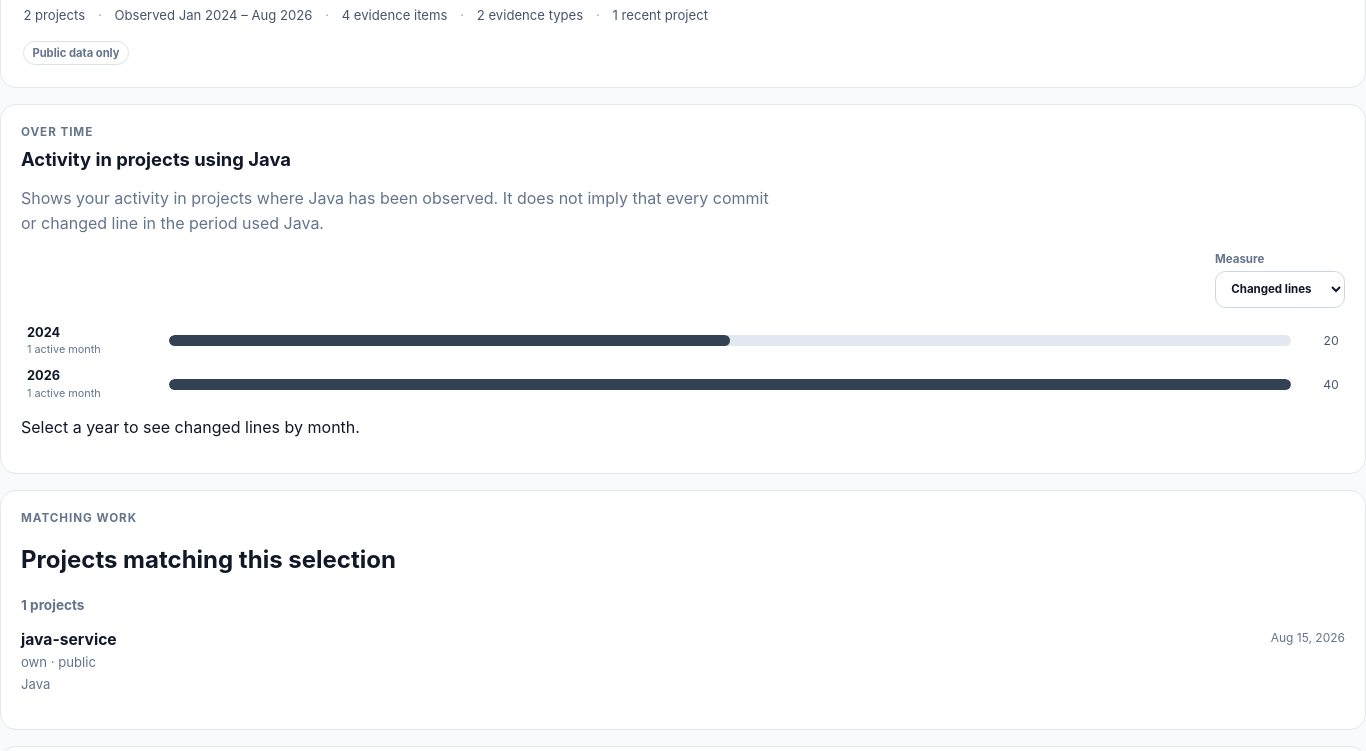
Test case: Explore selection consistency › uses Java plus the selected year for the matching project list
(page scrolled)
Click the button "2026 1 active month 40" at [683, 384], box [21,368,1345,401]
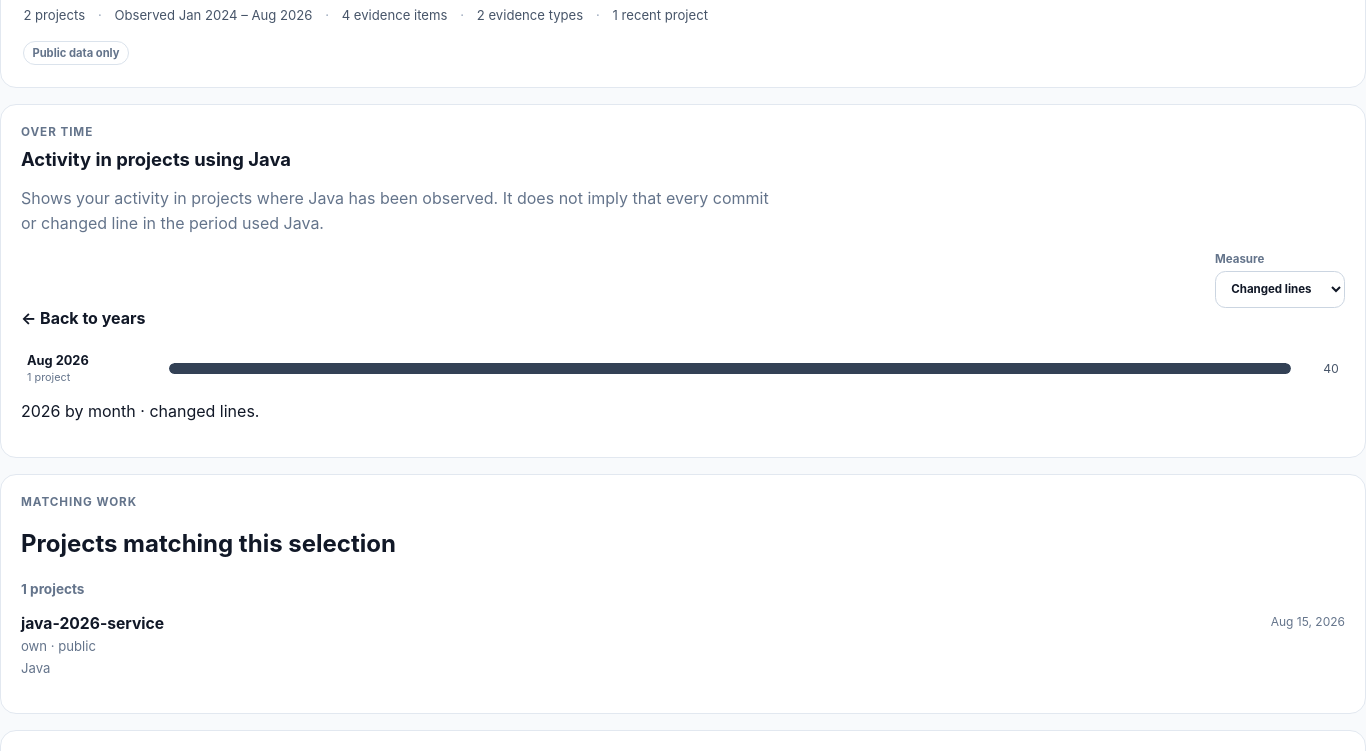
Check: the button "java-2026-service" is shown, box [21,614,164,633]
